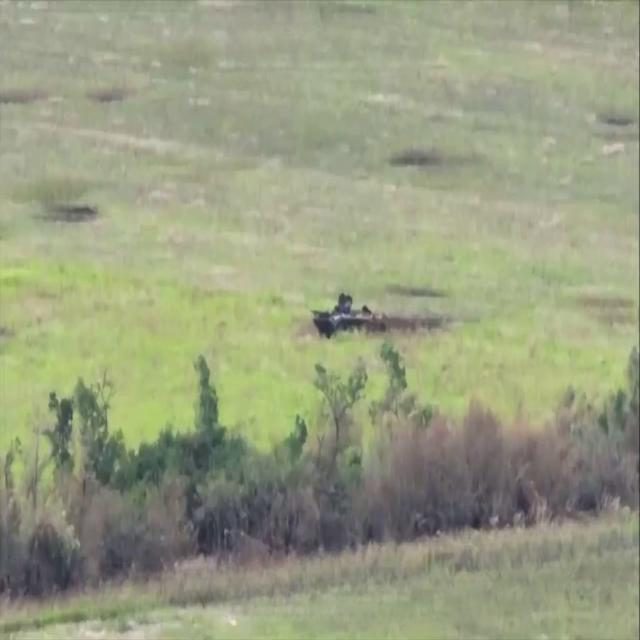AIFV: (310, 295, 389, 345)
